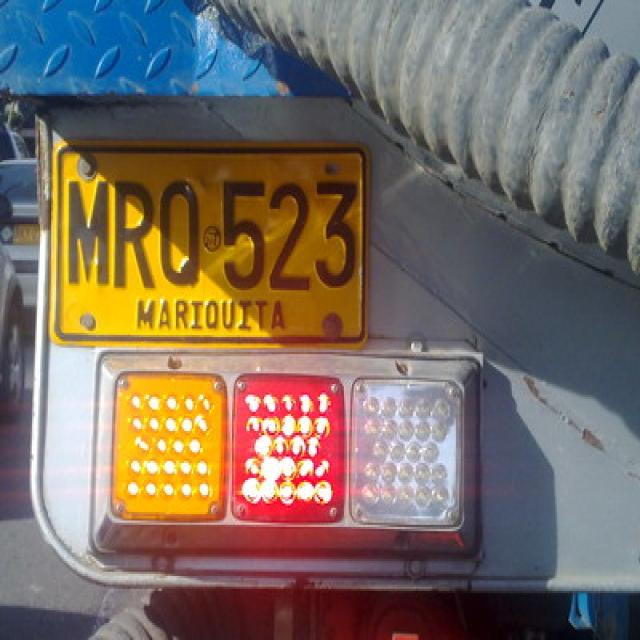placa_carro: (50, 127, 370, 364)
